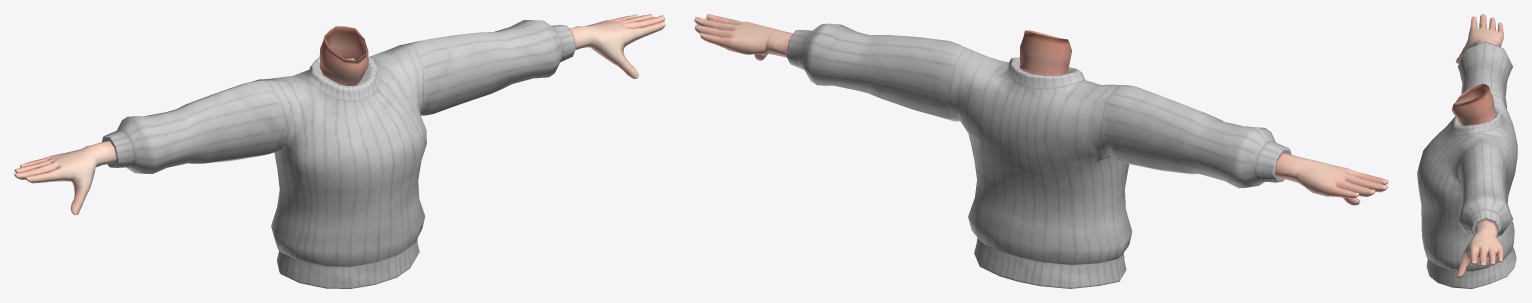
The model's file is tr0770_00_upb00.gltf.
3 views of the same model, side by side, from view 1: azimuth 30°, elevation 25°; view 2: azimuth 150°, elevation 25°; view 3: azimuth 270°, elevation 25° (orthographic). The views are drawn at different scales.
Visible parts, largest first — view 1: upb00_upperbody_mesh_shape:upperbody00, upb00_upperskin_mesh_shape:upperbody00_skin; view 2: upb00_upperbody_mesh_shape:upperbody00, upb00_upperskin_mesh_shape:upperbody00_skin; view 3: upb00_upperbody_mesh_shape:upperbody00, upb00_upperskin_mesh_shape:upperbody00_skin.
Boxes of the visible parts, bbox=[...] form: upb00_upperbody_mesh_shape:upperbody00: bbox=[102, 20, 576, 288]; upb00_upperskin_mesh_shape:upperbody00_skin: bbox=[14, 14, 665, 215]; upb00_upperbody_mesh_shape:upperbody00: bbox=[786, 23, 1291, 288]; upb00_upperskin_mesh_shape:upperbody00_skin: bbox=[694, 14, 1388, 205]; upb00_upperbody_mesh_shape:upperbody00: bbox=[1417, 41, 1517, 288]; upb00_upperskin_mesh_shape:upperbody00_skin: bbox=[1451, 14, 1503, 278].
Size of what is drawn, in the model's own units: 1.63 by 0.55 by 0.2769.
Materials: 2 (2 with a texture image).
